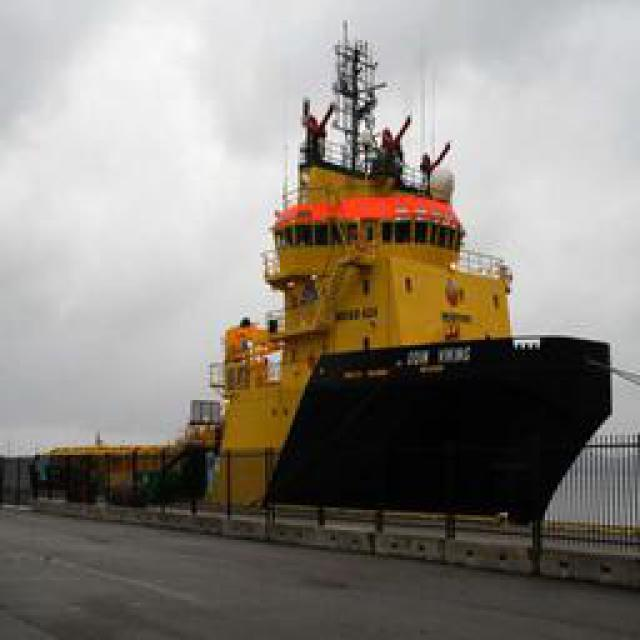Ship: (204, 24, 604, 559)
